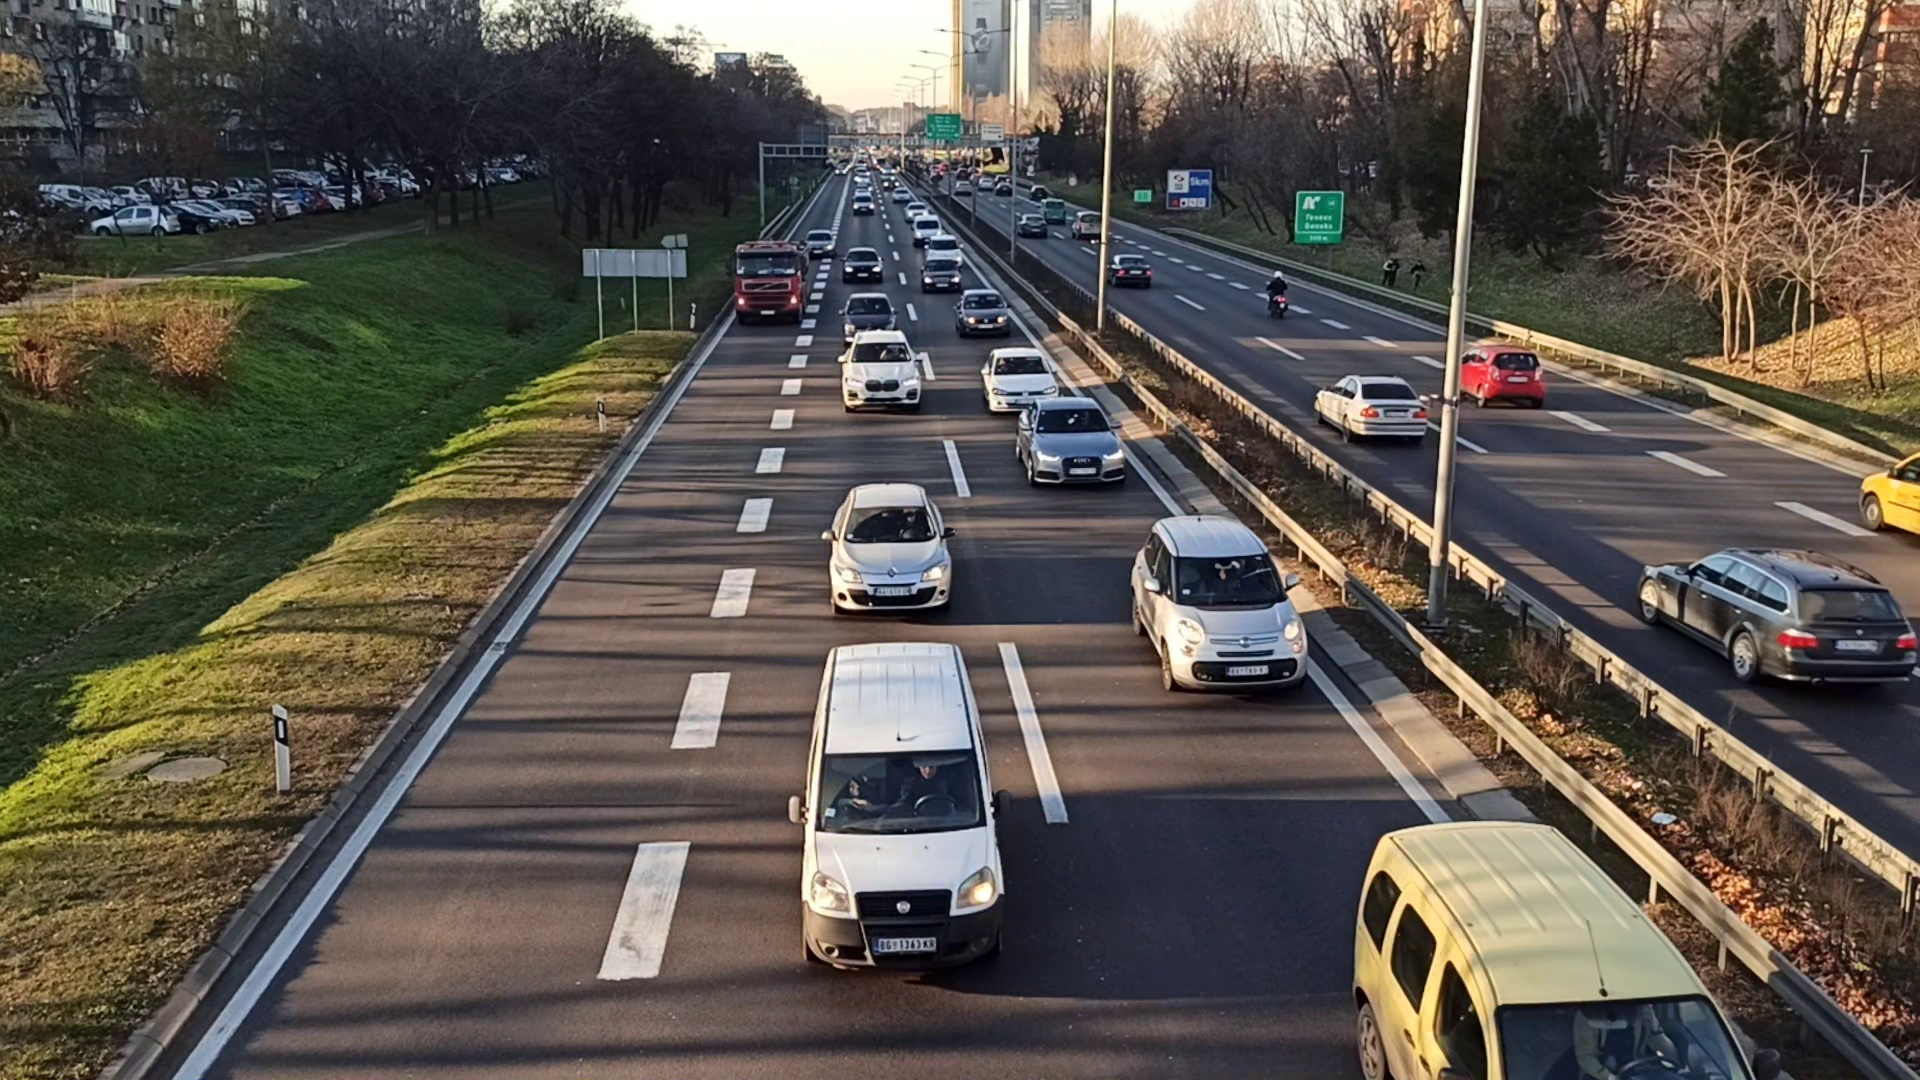car: (1638, 549, 1920, 702), (1126, 512, 1309, 698), (824, 485, 957, 615), (1013, 396, 1129, 489), (1309, 375, 1428, 443), (840, 332, 924, 409), (977, 343, 1058, 414), (952, 287, 1011, 342), (837, 291, 899, 339), (1102, 251, 1153, 287), (844, 247, 882, 280), (923, 261, 960, 291), (803, 228, 835, 258), (1014, 212, 1046, 237)
motorcycle: (1265, 268, 1290, 318)
truck: (732, 237, 804, 324)
van: (796, 644, 1011, 982)
